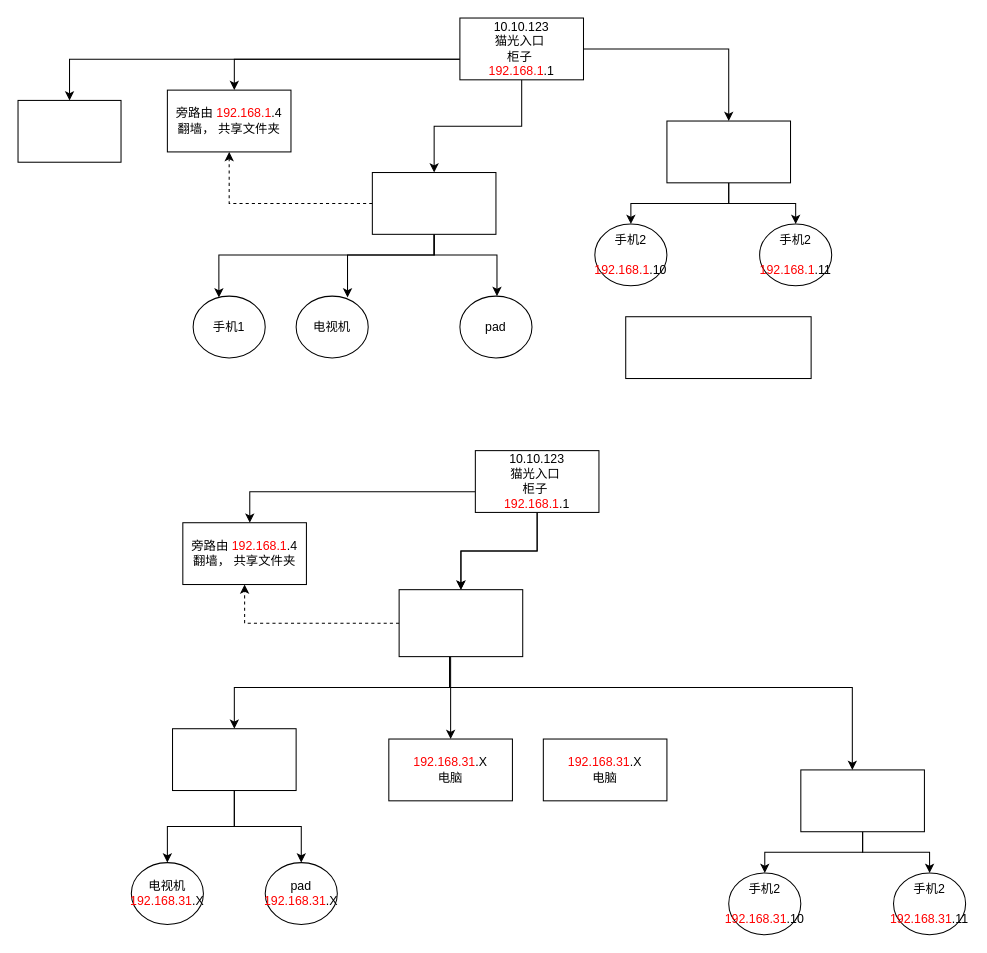
The diagram is 987 pixels wide and 953 high, and some of its shapes have lost their labels. The centre of each missing label's shape, as x and y in pixels:
192.168.1 .2 客厅路由器 192.168.31 .1 (有线无线): the point at 433,202
192.168.1 .2 柜子路由器 192.168.31 .1: the point at 460,623
192.168.31 .X 路由器 AP模式 tgdbj: the point at 233,759
小房间 192.168.1 .5 AP模式 tgdbj2: the point at 728,151
小房间 192.168.31 .5 AP模式 tgdbj2: the point at 862,800
电脑 192.168.1 .3: the point at 69,130
缺点：1、tgdbj2设备无法翻墙，除非各自设置 2、tgdbj2设备，无法投屏到电视: the point at 718,347
